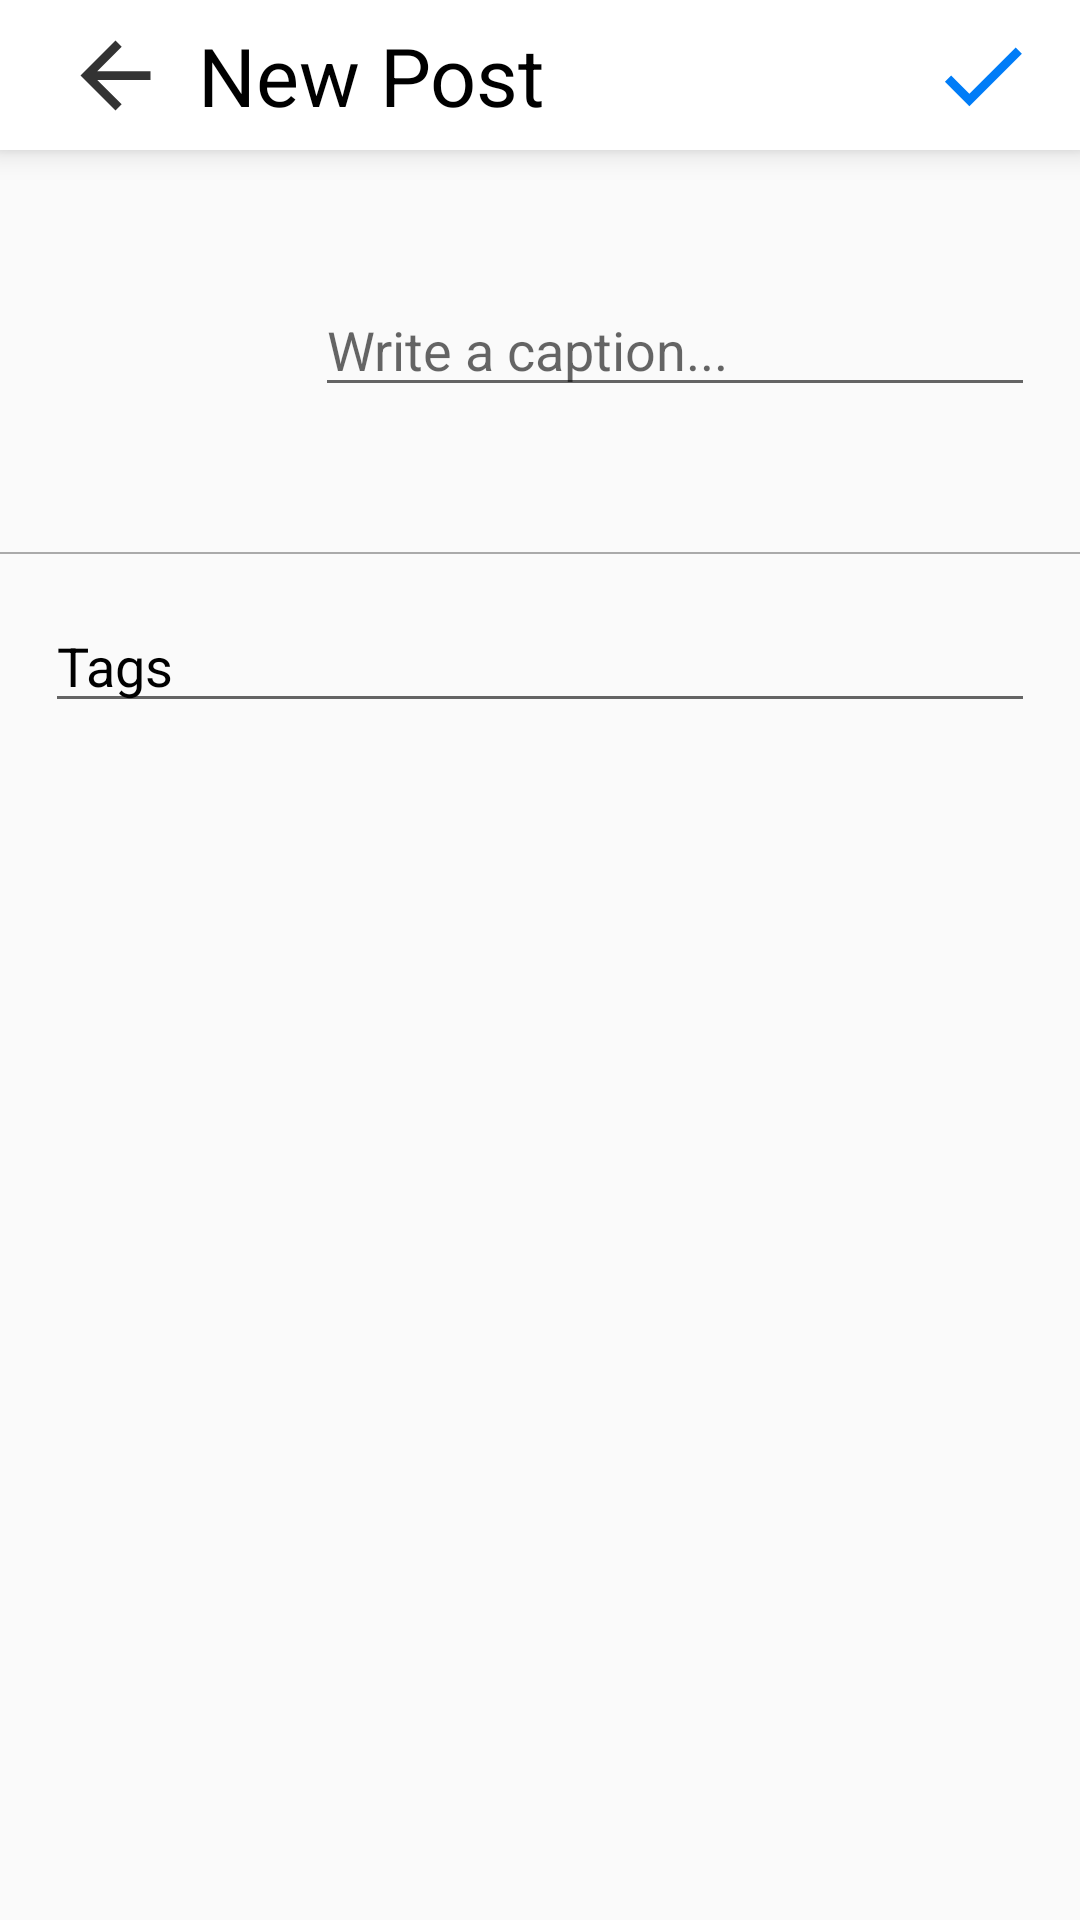

Screen size 1080px×1920px. Icon name, then its box in pixels as (x1=x1, y1=y1, x2=x2, y2=y2):
back arrow: (x1=80, y1=40, x2=151, y2=111)
check right: (x1=945, y1=47, x2=1022, y2=106)
